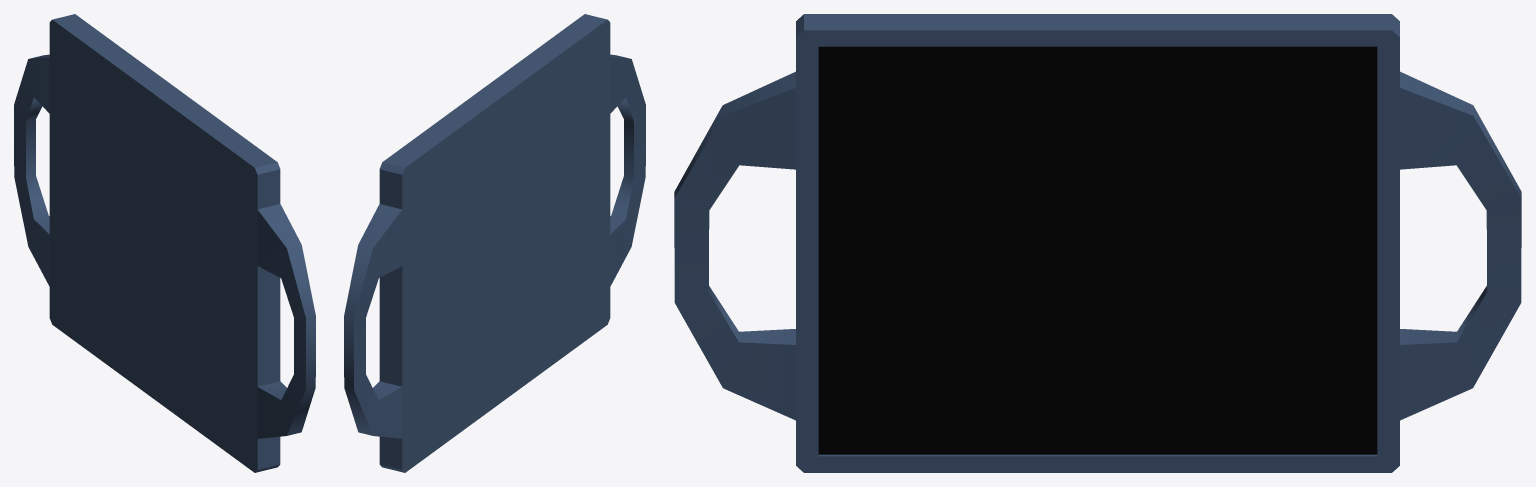
Rendered from MODEL_Tablet.fbx.
3 renders of one model, left to right at view 1: azimuth 30°, elevation 25°; view 2: azimuth 150°, elevation 25°; view 3: azimuth 270°, elevation 25°, orthographic. The views are drawn at different scales.
Visible parts, largest first — view 1: Ipad; view 2: Ipad; view 3: Ipad.
Boxes of the visible parts, x1,y1,x2,y2 form: Ipad: (14, 14, 315, 472); Ipad: (344, 14, 645, 472); Ipad: (674, 14, 1521, 472).
Size of the model in its own units: 0.0636 by 0.8091 by 1.4.
